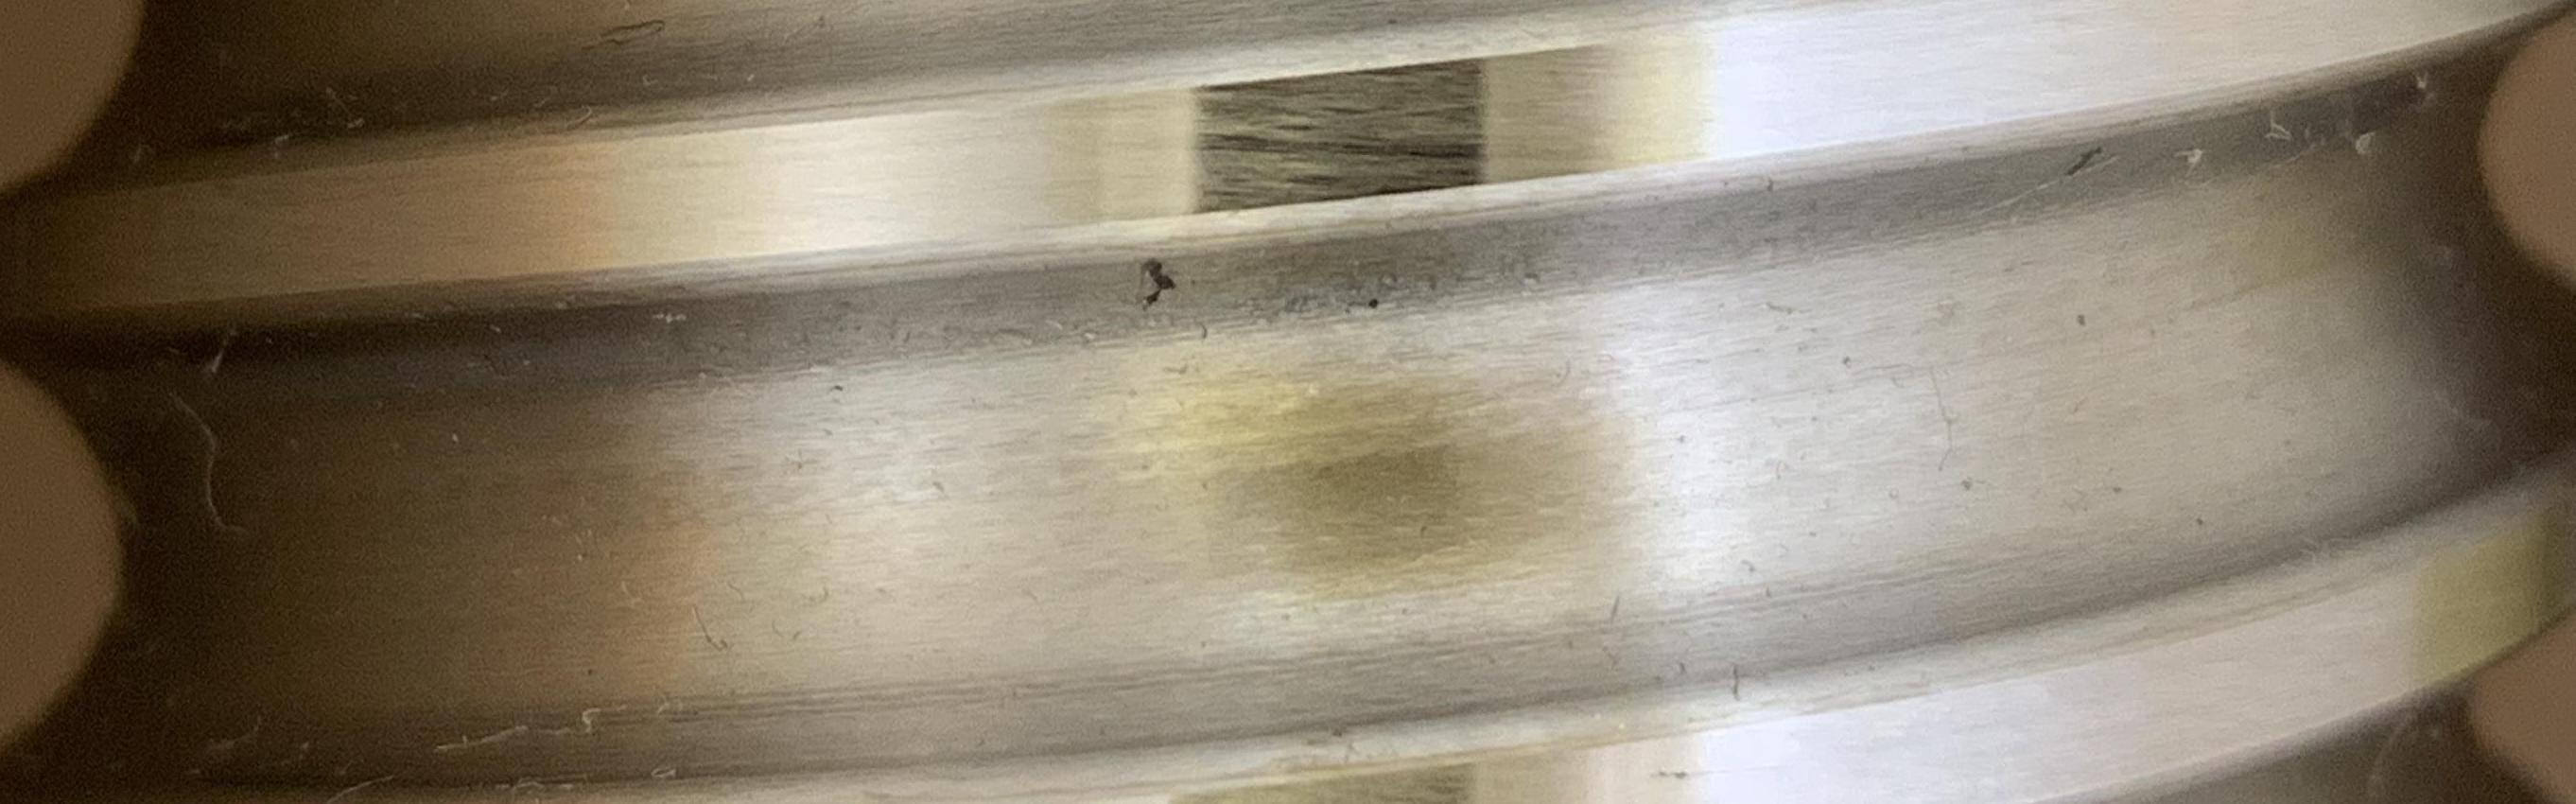pitting: (1140, 258, 1176, 311), (2067, 146, 2103, 174)
